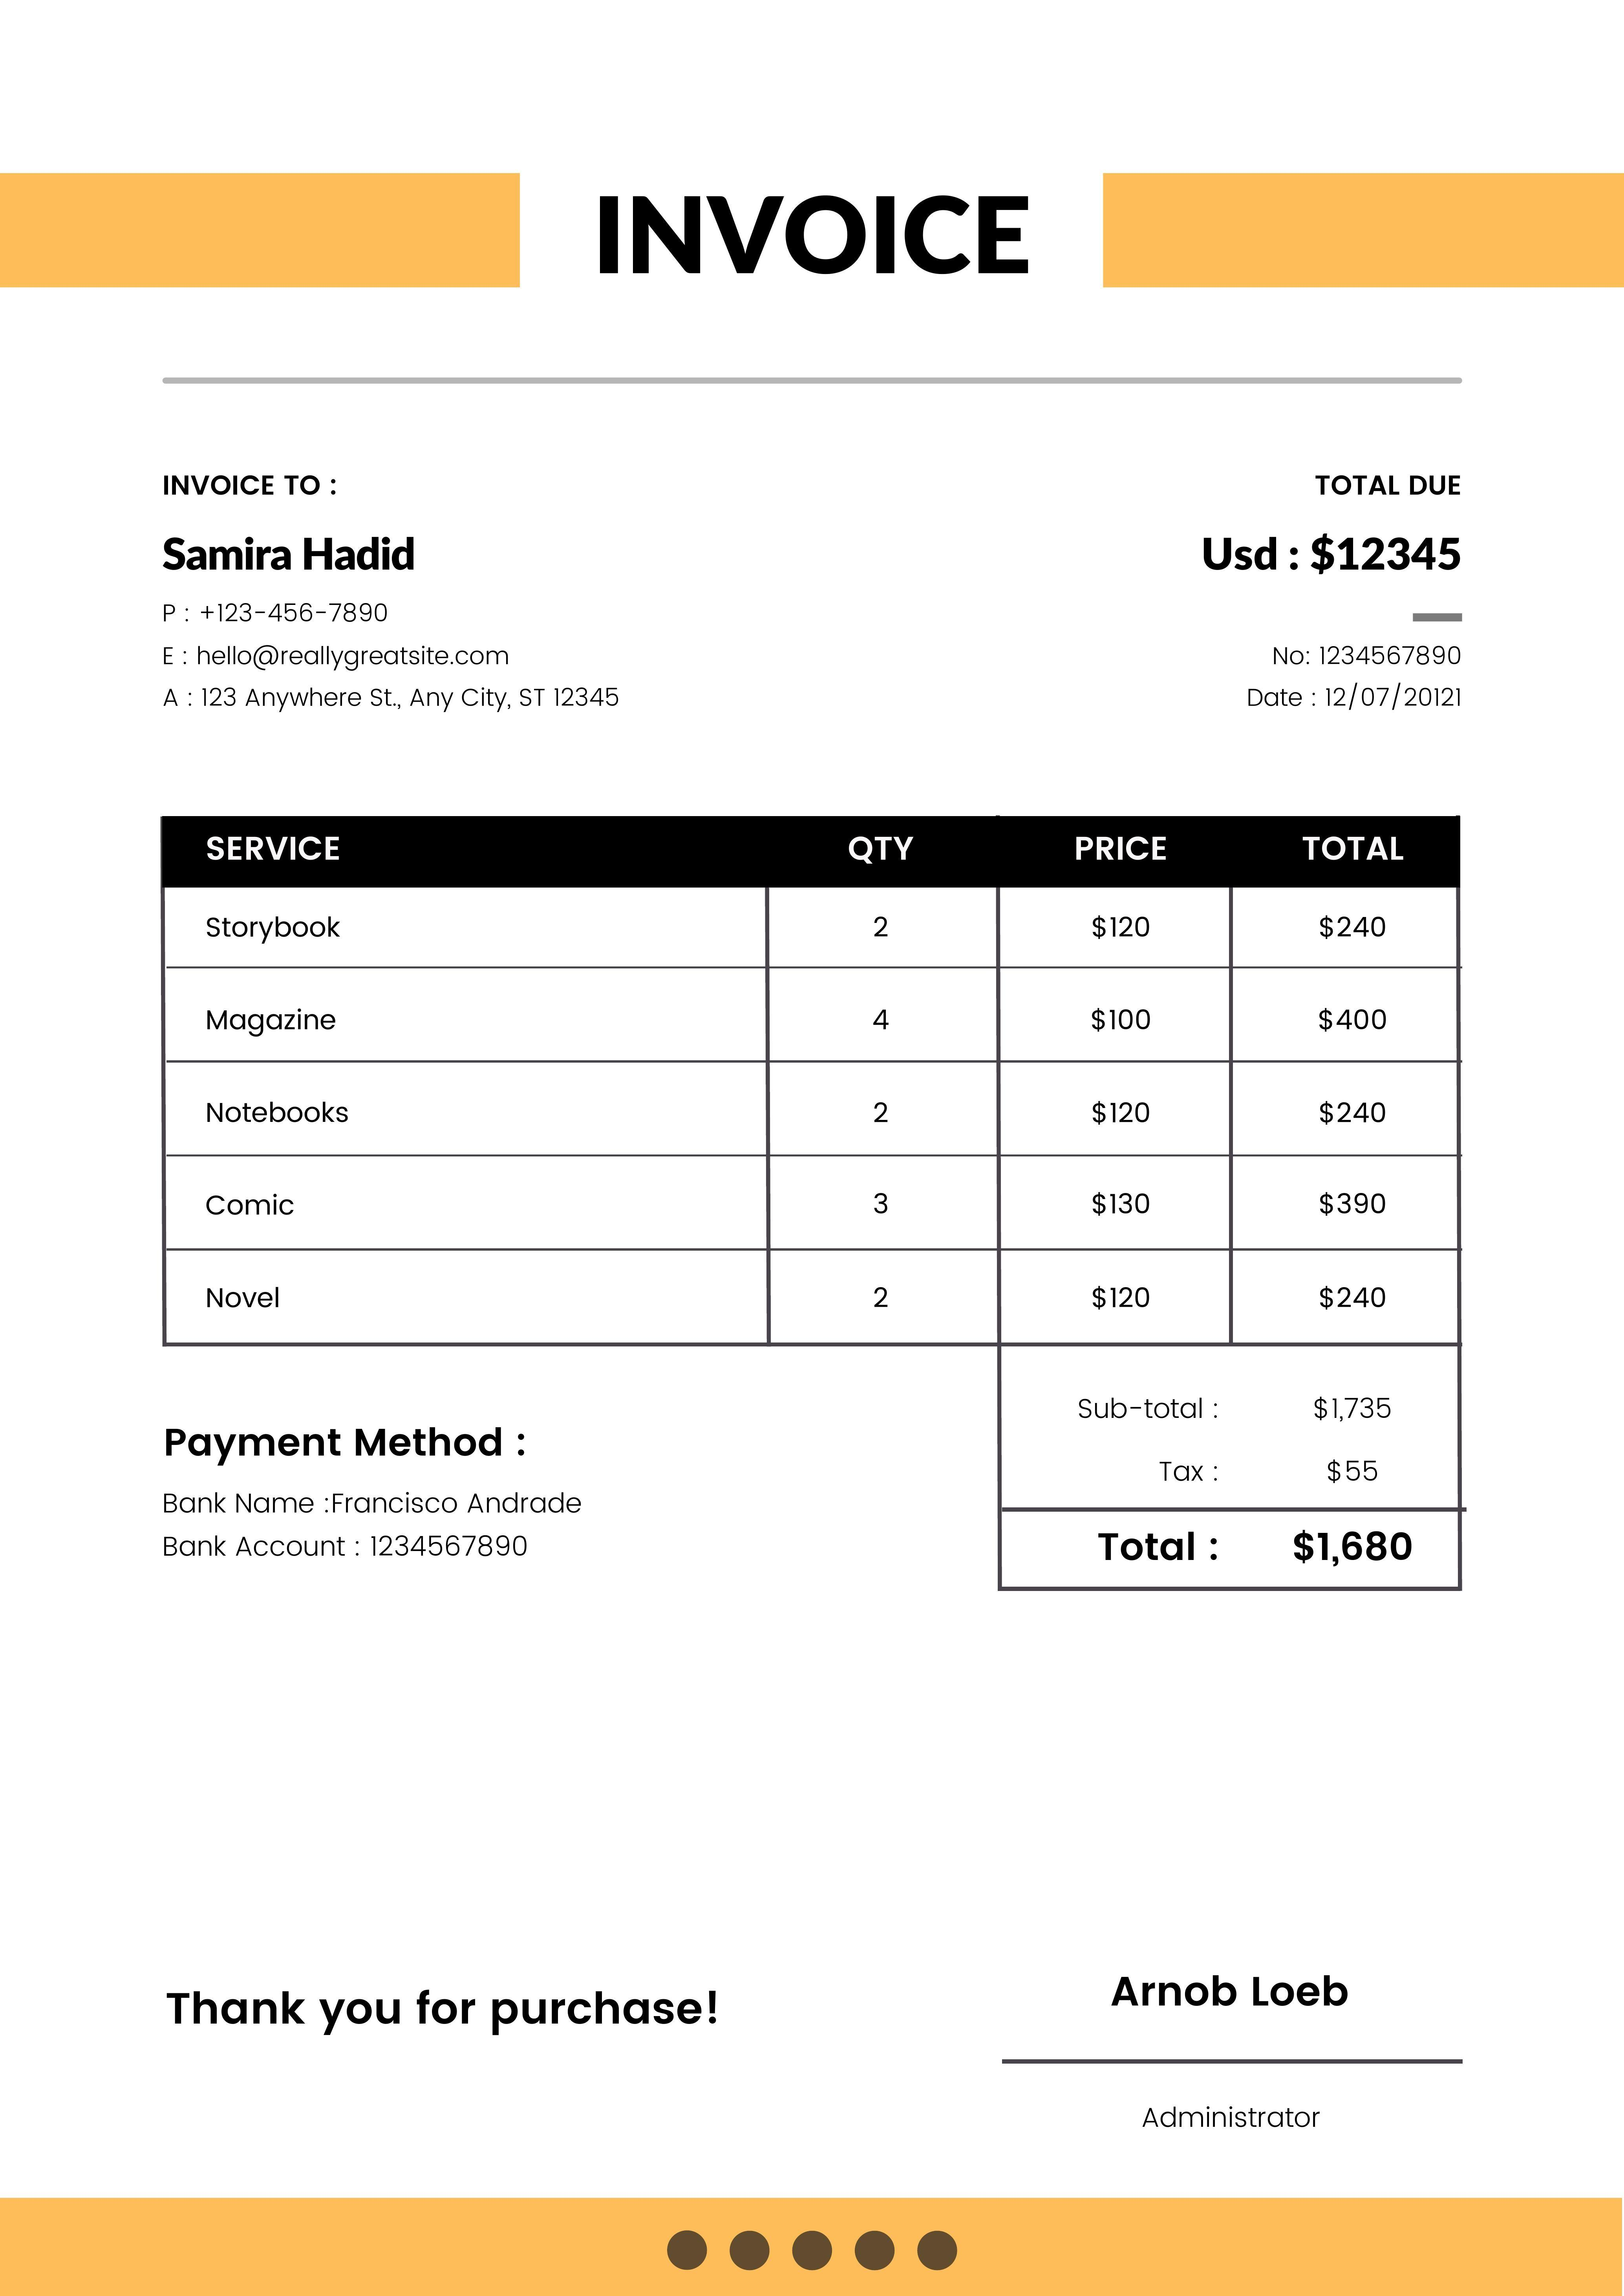ROI: (155, 812, 1462, 1342), (155, 520, 638, 726), (1067, 1375, 1429, 1579), (146, 1425, 615, 1576), (1232, 634, 1485, 722)
